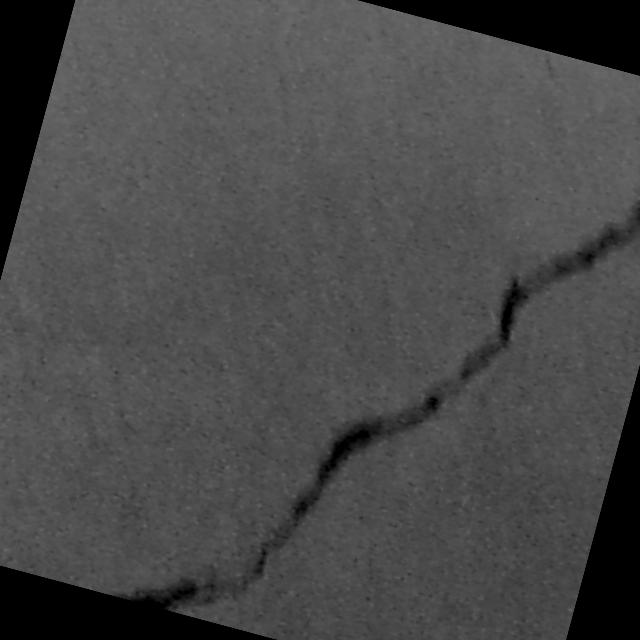crack: (114, 312, 466, 640), (437, 114, 640, 428)
